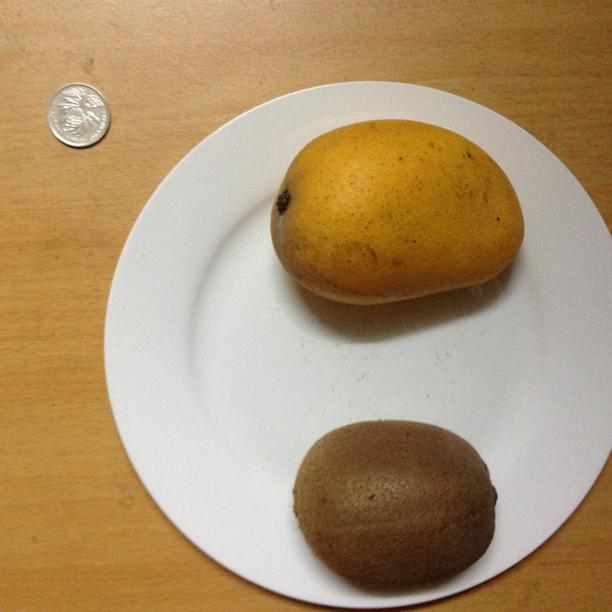coin: (46, 84, 110, 148)
mango: (266, 121, 524, 305)
qiwi: (293, 419, 497, 586)
